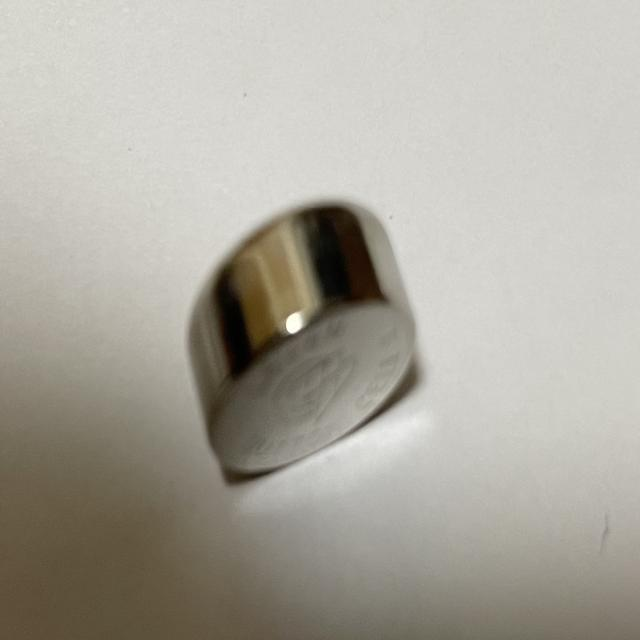COIN: (187, 198, 416, 482)
